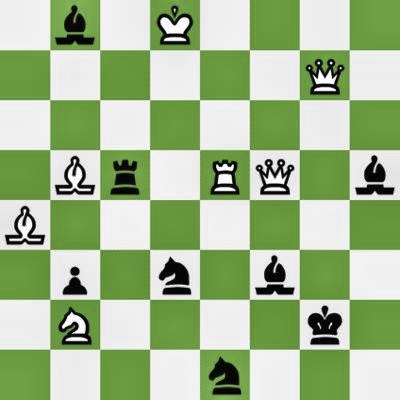black-bishop: (50, 0, 100, 50), (350, 150, 400, 200), (250, 250, 300, 300)
black-king: (300, 300, 350, 350)
black-knight: (150, 250, 200, 300), (200, 350, 250, 400)
black-pawn: (50, 250, 100, 300)
black-rook: (100, 150, 150, 200)
white-bishop: (50, 150, 100, 200), (0, 200, 50, 250)
white-king: (150, 0, 200, 50)
white-knight: (50, 300, 100, 350)
white-queen: (300, 50, 350, 100), (250, 150, 300, 200)
white-rook: (200, 150, 250, 200)
